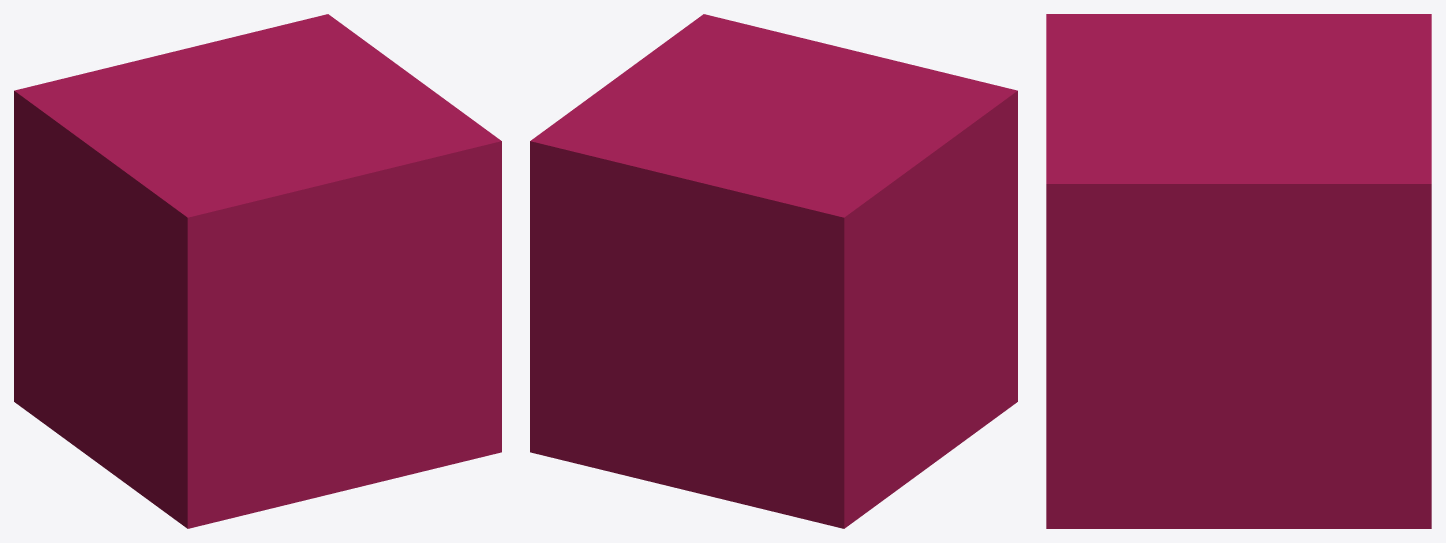
The model's file is rivergrass.DAE.
3 renders of one model, left to right at view 1: azimuth 30°, elevation 25°; view 2: azimuth 150°, elevation 25°; view 3: azimuth 270°, elevation 25°, orthographic. The views are drawn at different scales.
Parts seen in each view (by area): view 1: bounds; view 2: bounds; view 3: bounds.
Part boxes in pixels (<box>): bounds: <box>14,14,501,528</box>; bounds: <box>530,14,1017,528</box>; bounds: <box>1046,14,1431,528</box>.
Bounding box in the file's own units: 2.18 × 2.09 × 2.14.
